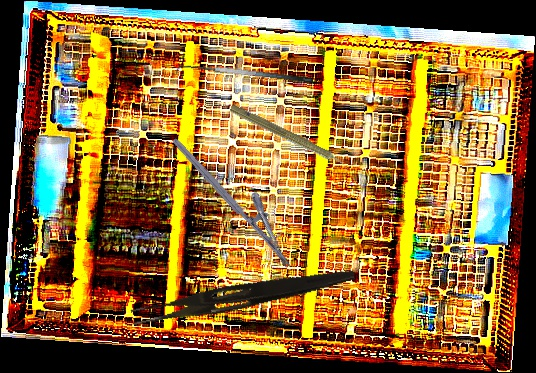Dressing Forceps: (129, 257, 357, 335)
Handpiece: (227, 101, 353, 175)
Needle Holder: (171, 122, 309, 270)
Spatula Surgical: (175, 57, 314, 96)
